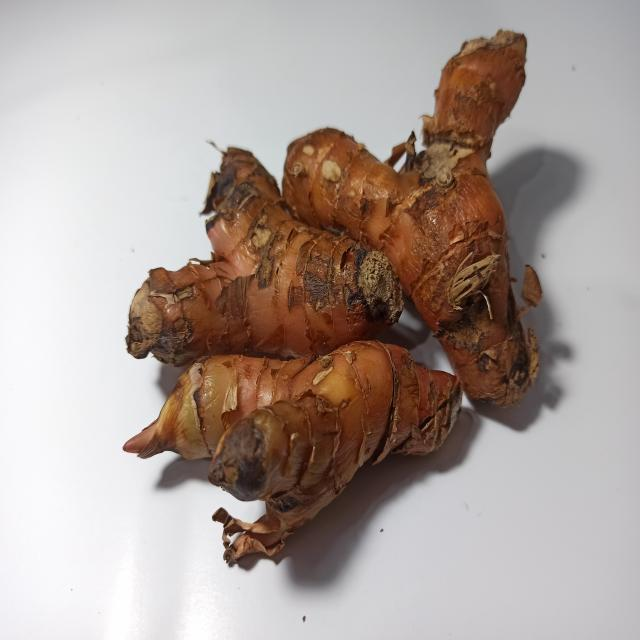ginger: (114, 11, 549, 527)
